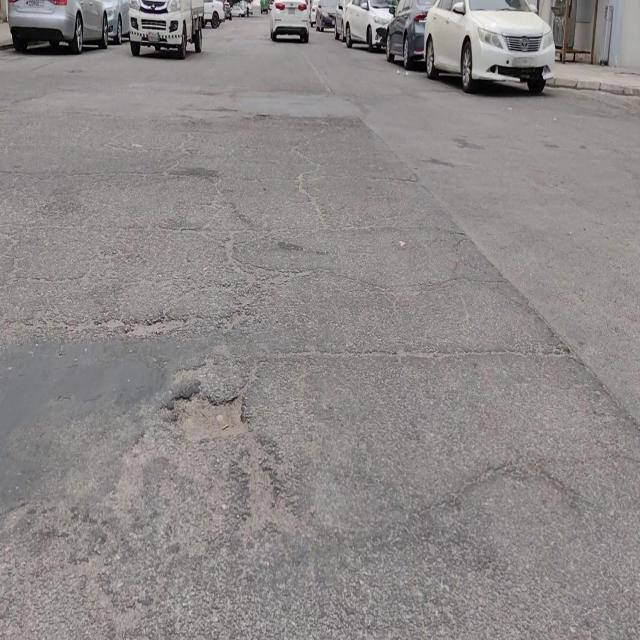Pothole: (168, 386, 252, 449)
